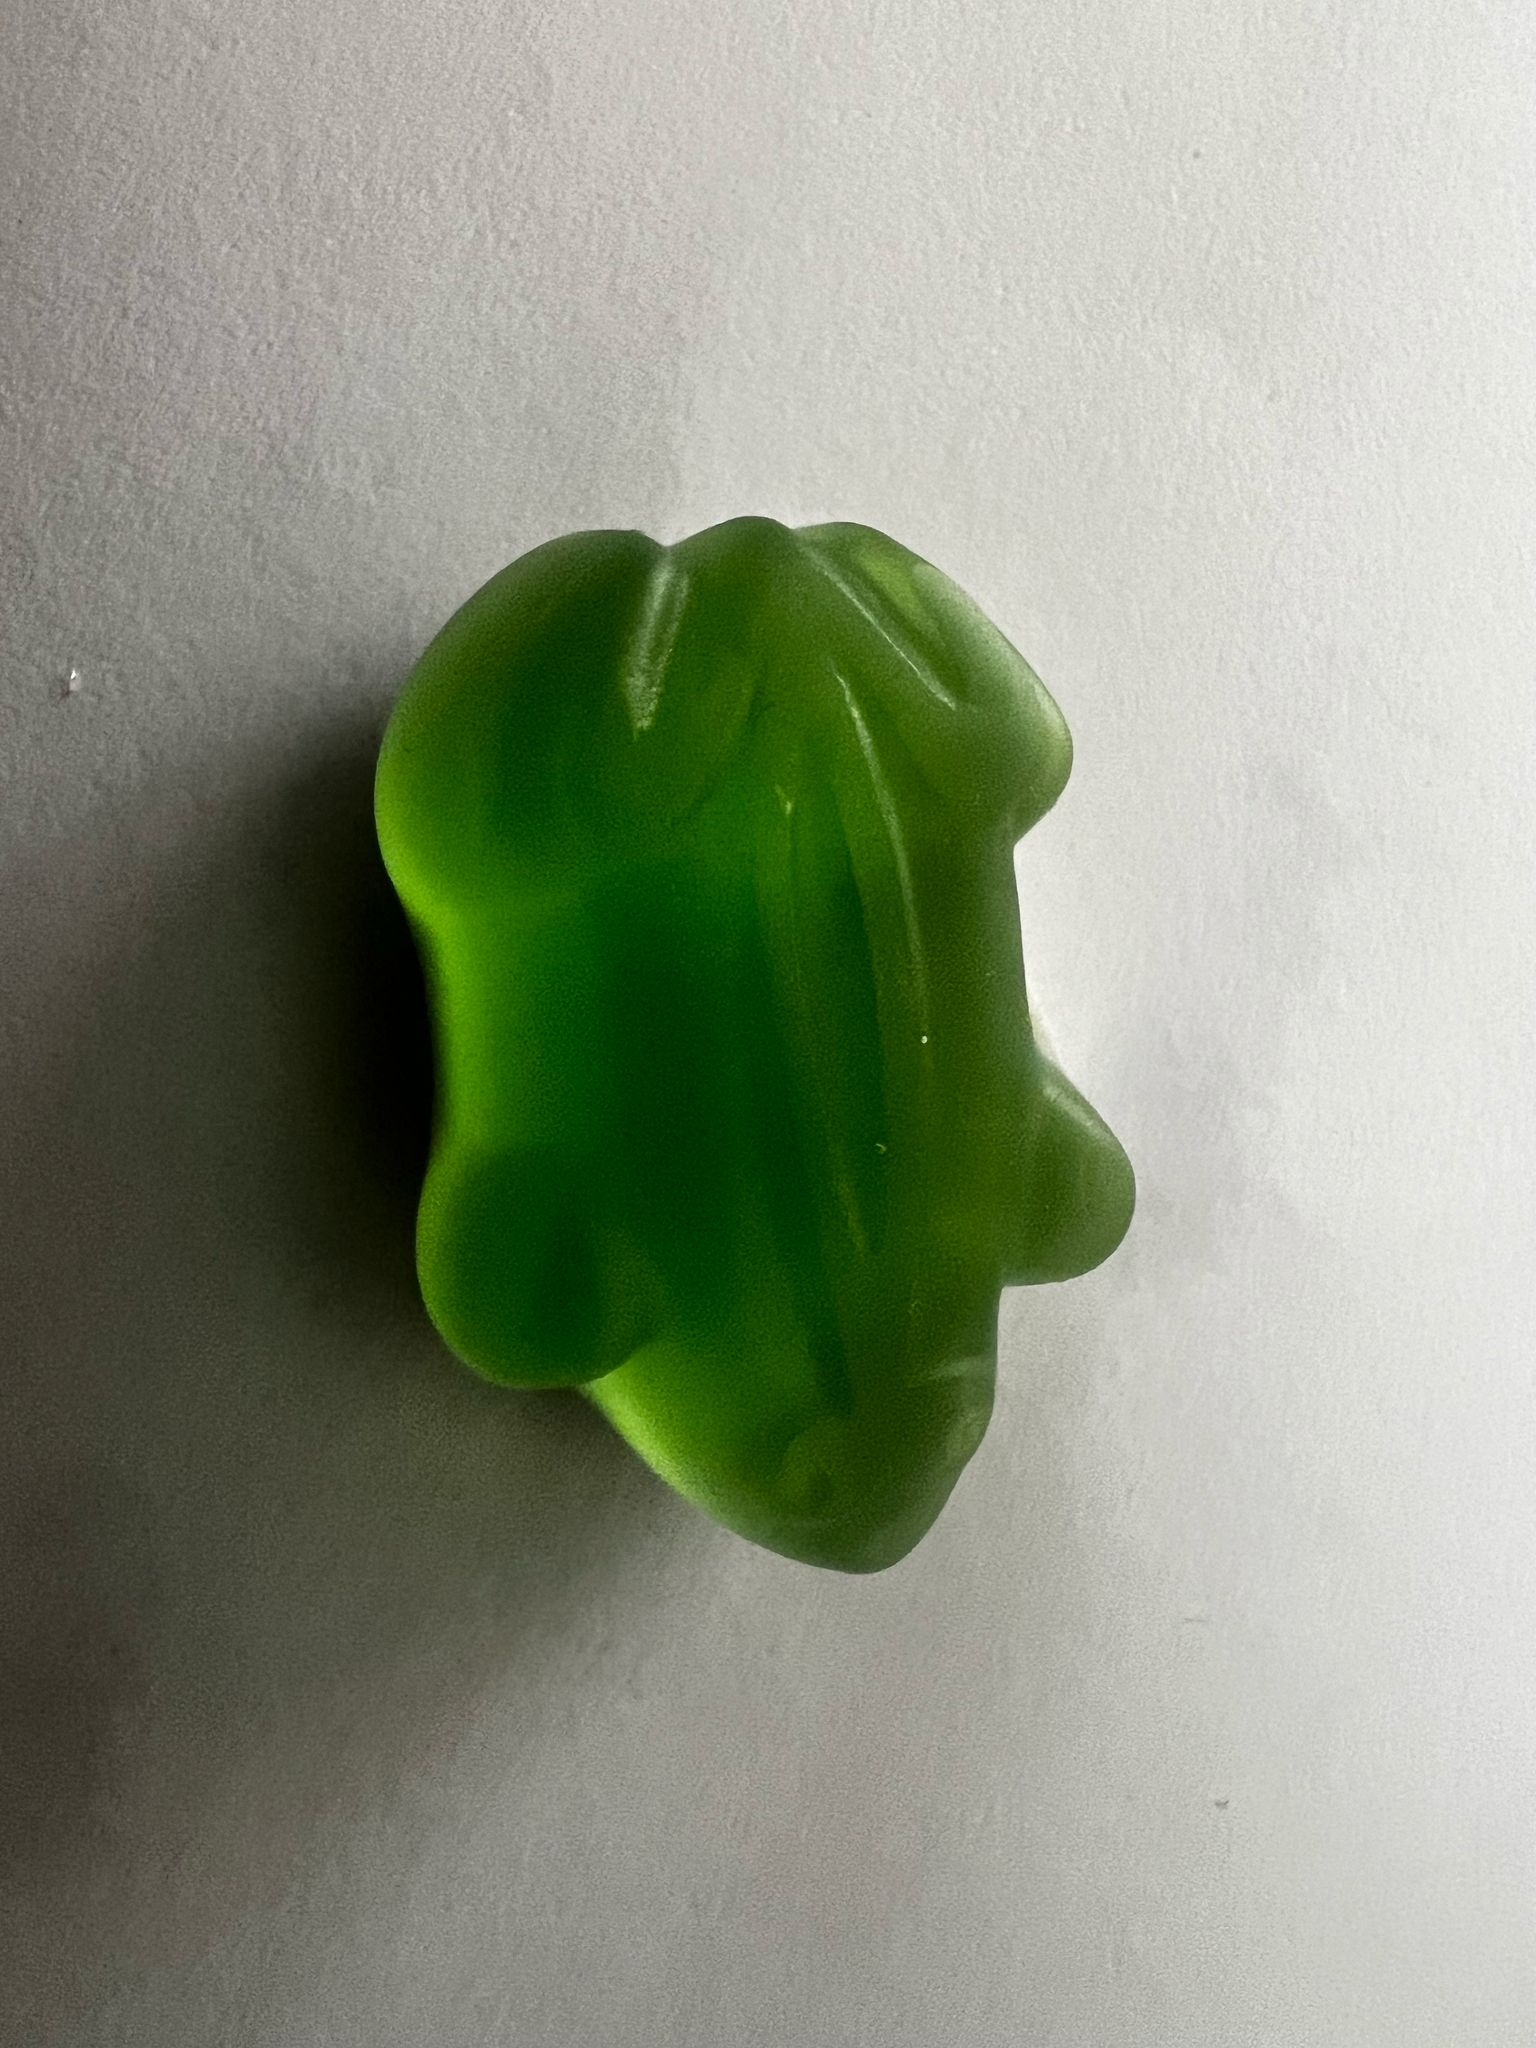frog: (350, 506, 1144, 1580)
